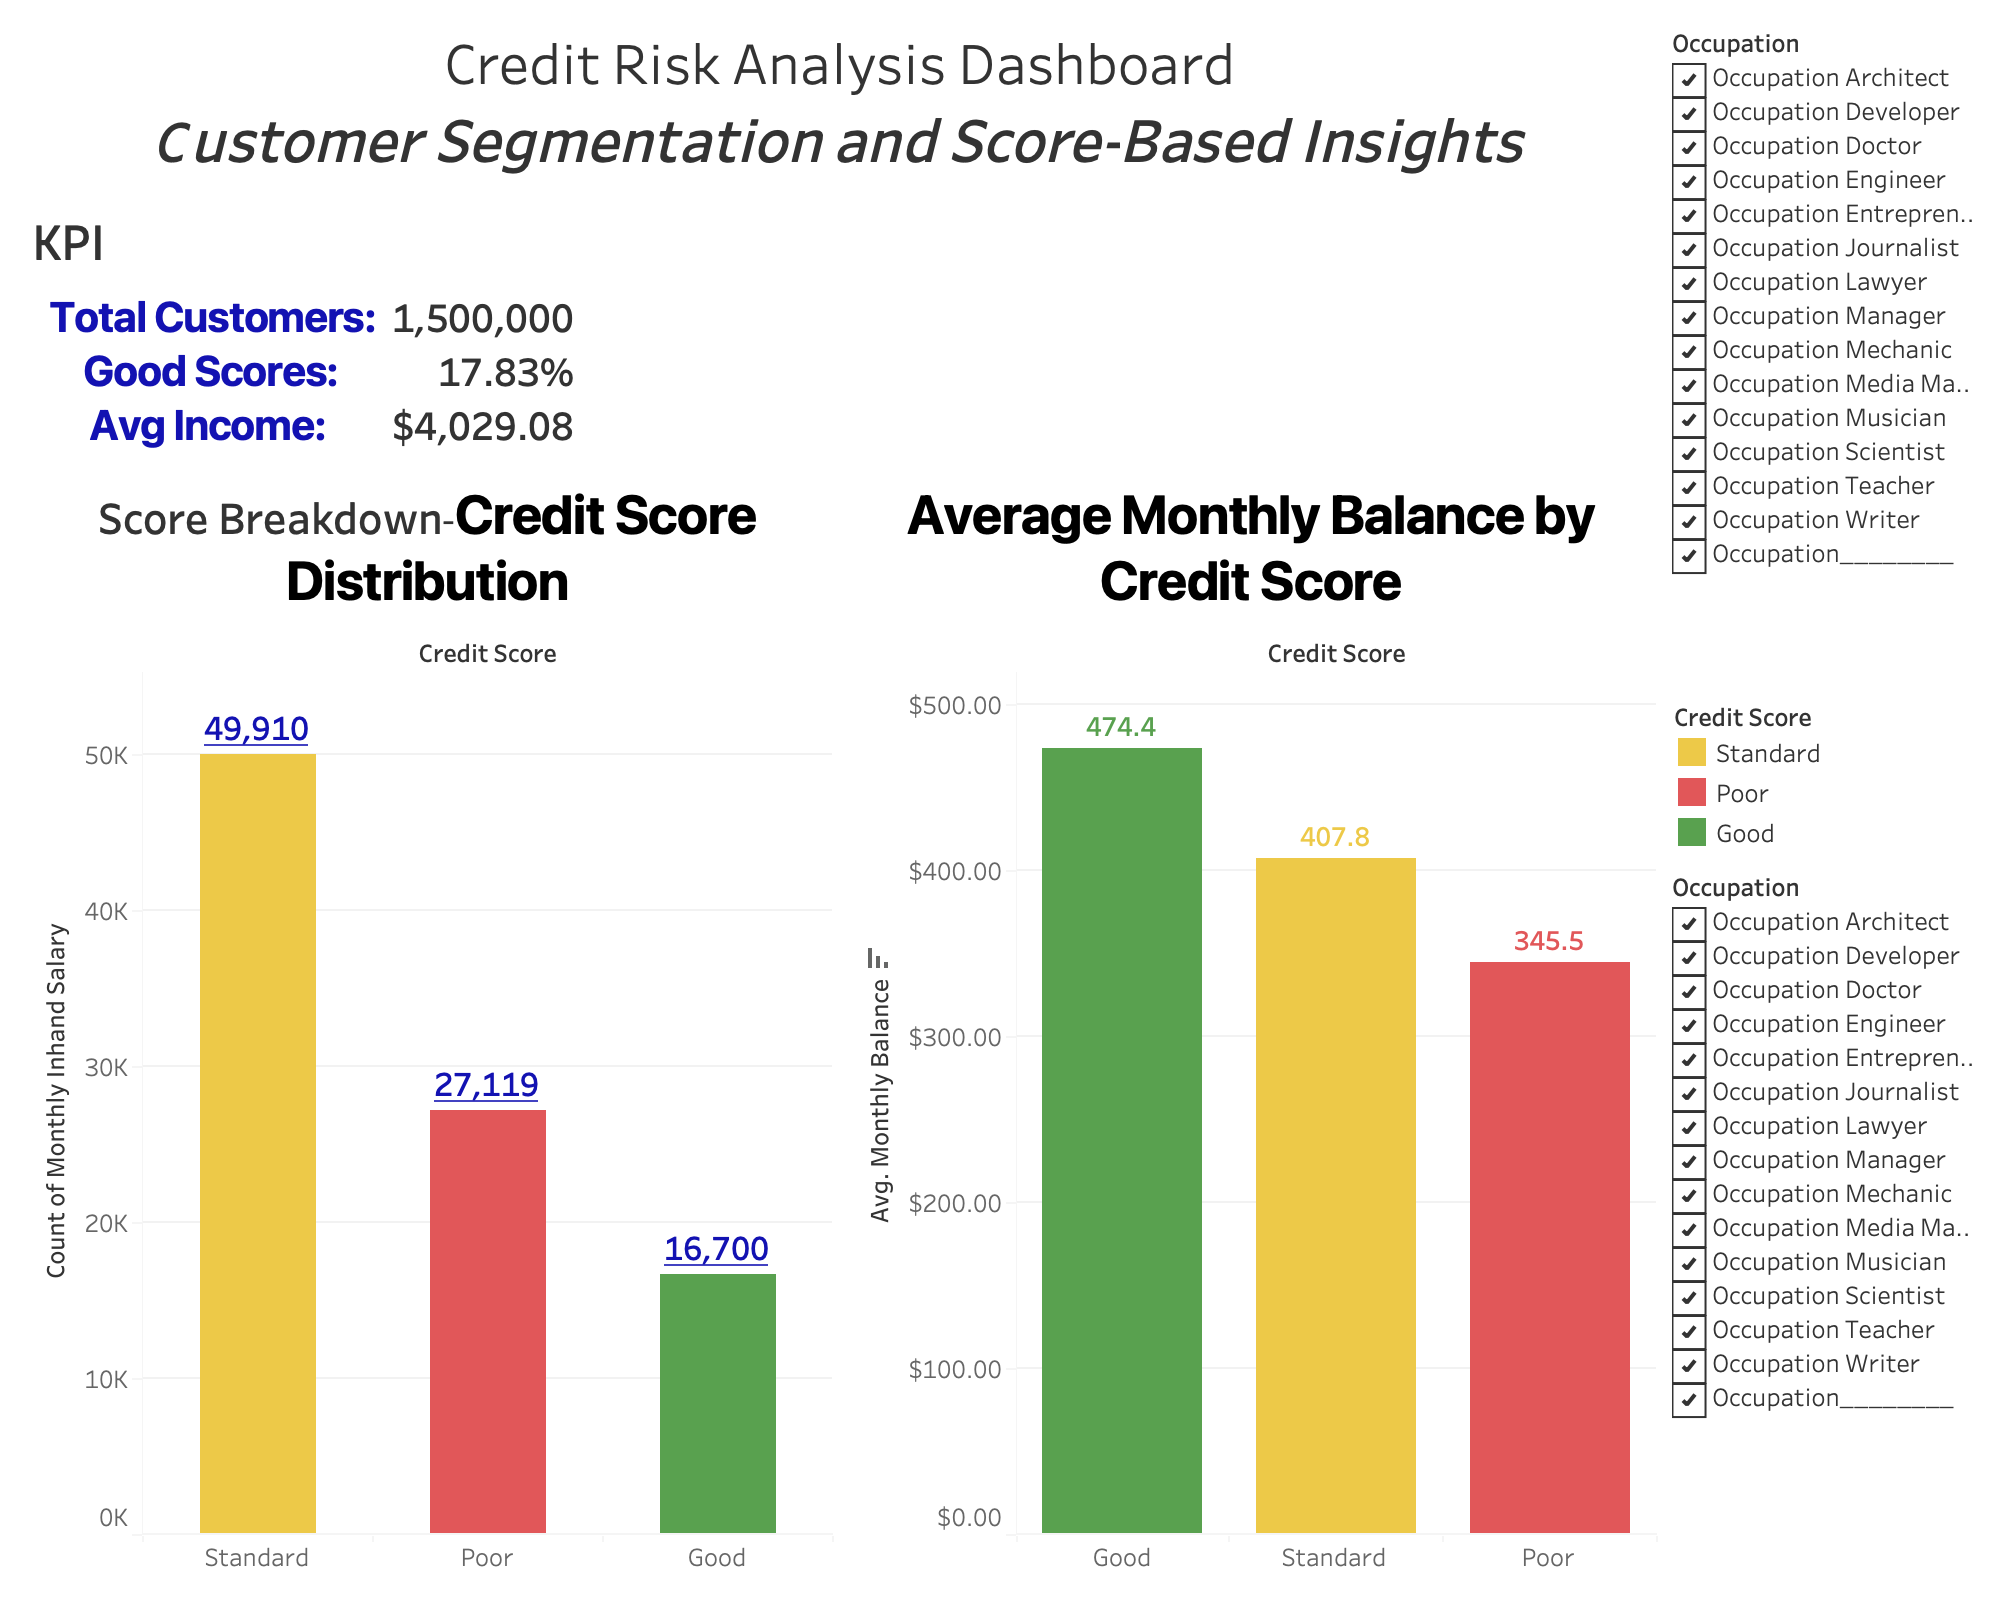

What the dashboard file says about the page in this screenshot:
{"tool":"tableau","page":{"name":"Credit Risk Analysis Dashboard ","canvas":[1000,800],"ordinal":0},"visuals":[{"type":"title","box":[8,8,824,86]},{"type":"filter","title":"Score Breakdown","param":"[federated.1xk0e6s16n89xy1e61ng51jawuw8].[none:Pivot Field Names:nk]","box":[832,8,160,336]},{"type":"worksheet","title":"KPI","mark":"Automatic","box":[8,94,824,137]},{"type":"worksheet","title":"Score Breakdown","mark":"Automatic","rows":["Monthly_Inhand_Salary"],"cols":["Credit_Score"],"box":[8,231,412,561]},{"type":"worksheet","title":"Avg Balance by Score","mark":"Bar","rows":["Monthly_Balance"],"cols":["Credit_Score"],"box":[420,231,412,561]},{"type":"legend","title":"Score Breakdown","param":"[federated.1xk0e6s16n89xy1e61ng51jawuw8].[none:Credit_Score:ok]","box":[832,344,160,86]},{"type":"filter","title":"Avg Balance by Score","param":"[federated.1xk0e6s16n89xy1e61ng51jawuw8].[none:Pivot Field Names:nk]","box":[832,430,160,336]}]}

Visuals, with their boxes in screenshot pixels (x1, y1, x2, y2), scaled from the page's 1000x800 canvas onto the 2000x1600 screenshot:
title: (left=16, top=16, right=1664, bottom=188)
"Score Breakdown" filter: (left=1664, top=16, right=1984, bottom=688)
"KPI" worksheet: (left=16, top=188, right=1664, bottom=462)
"Score Breakdown" worksheet: (left=16, top=462, right=840, bottom=1584)
"Avg Balance by Score" worksheet (Bar marks): (left=840, top=462, right=1664, bottom=1584)
"Score Breakdown" legend: (left=1664, top=688, right=1984, bottom=860)
"Avg Balance by Score" filter: (left=1664, top=860, right=1984, bottom=1532)
